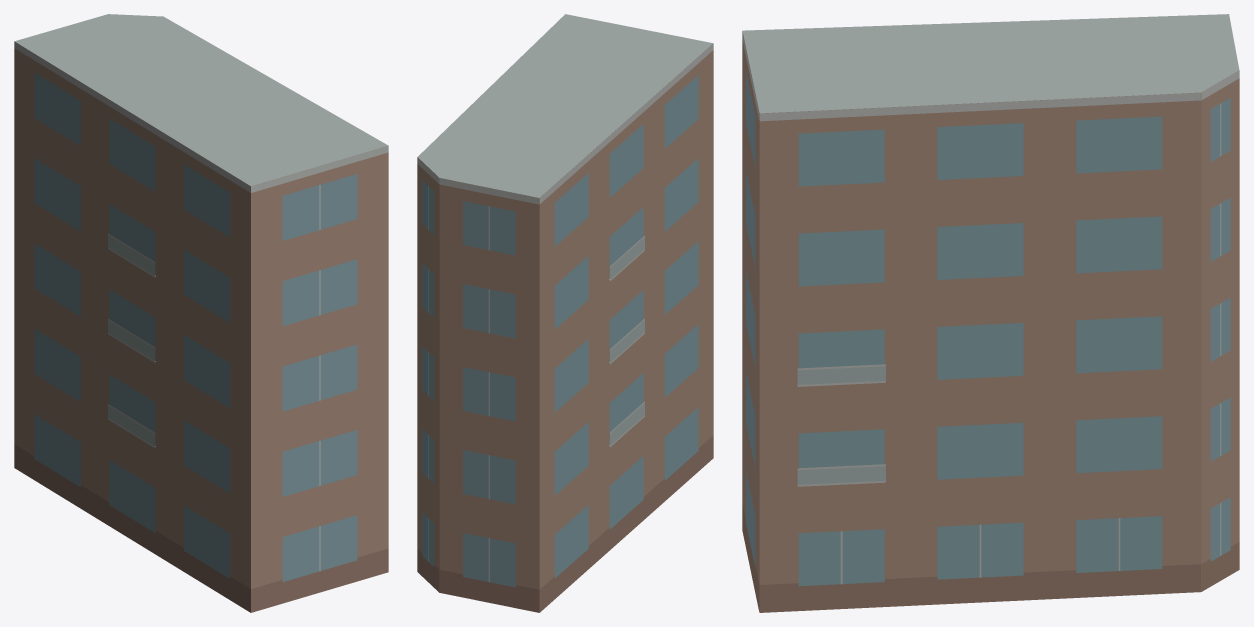
Rendered from survey-upis-32685214.glb.
3 renders of one model, left to right at view 1: azimuth 30°, elevation 25°; view 2: azimuth 150°, elevation 25°; view 3: azimuth 270°, elevation 25°, orthographic. The views are drawn at different scales.
Parts seen in each view (by area): view 1: survey-upis-32685214.tmp; view 2: survey-upis-32685214.tmp; view 3: survey-upis-32685214.tmp.
Part boxes in pixels (x1,y1,x2,y2): survey-upis-32685214.tmp: (14,14,388,612); survey-upis-32685214.tmp: (417,14,713,612); survey-upis-32685214.tmp: (742,14,1239,612).
Size of the model in its own units: 6.54 by 15.3 by 13.81.
